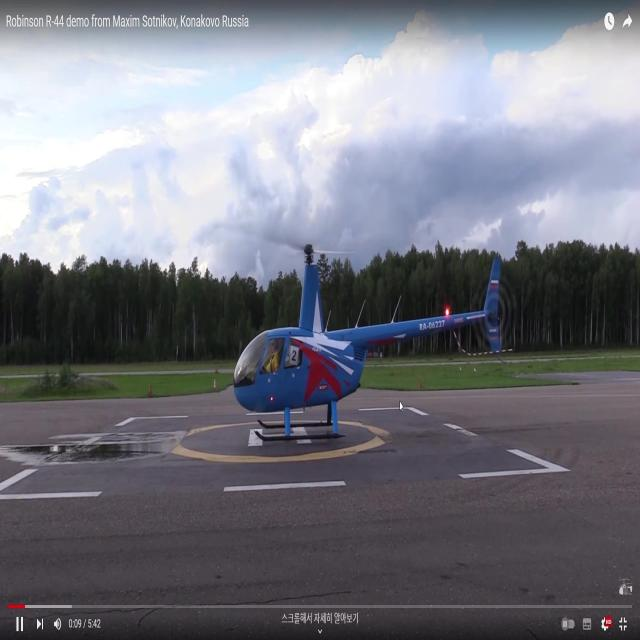CIV_HELO: (233, 242, 508, 445)
